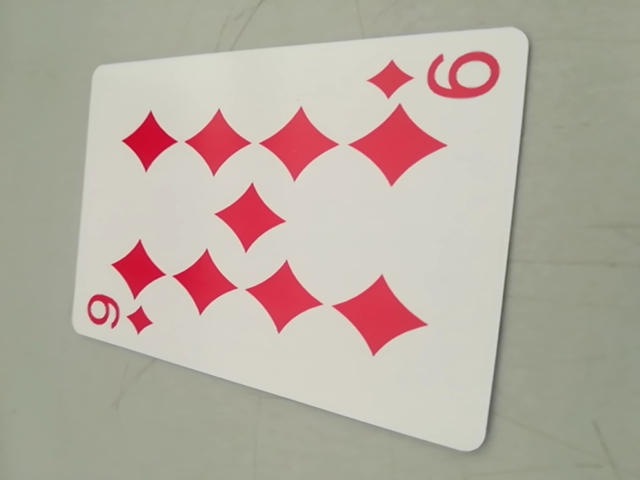fk 9: (368, 44, 508, 111), (78, 291, 162, 344)
